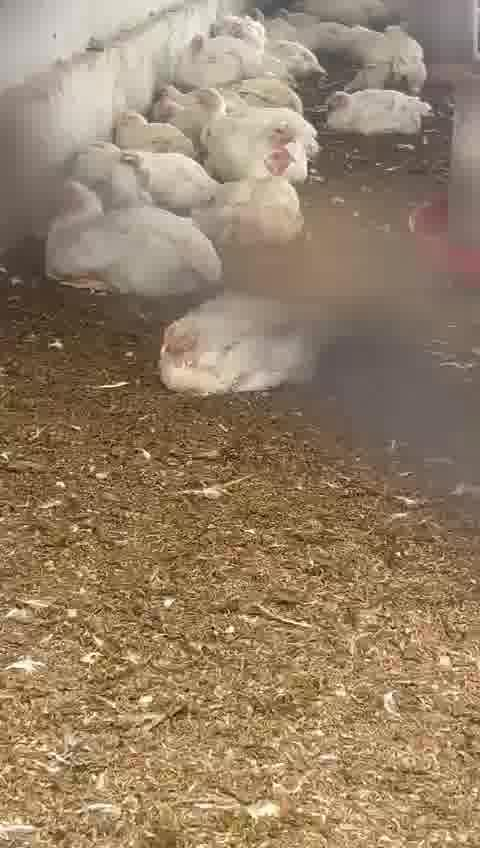AbNormal: (163, 302, 325, 398), (192, 143, 303, 247), (199, 88, 312, 174), (329, 90, 430, 139)
Normal: (43, 176, 217, 296)
